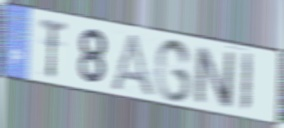8: (78, 27, 108, 86)
A: (108, 31, 158, 100)
G: (153, 37, 193, 104)
I: (239, 51, 254, 116)
N: (194, 43, 235, 111)
T: (38, 16, 69, 80)
